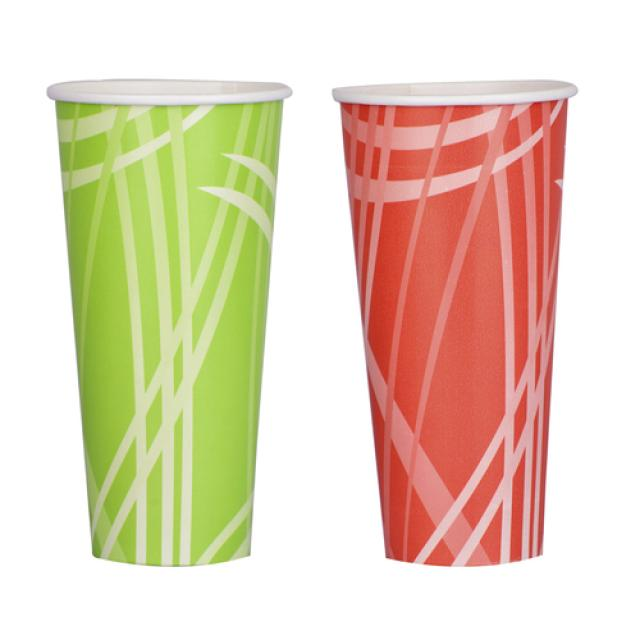PaperCardboard: (45, 76, 287, 564), (334, 80, 570, 563)
